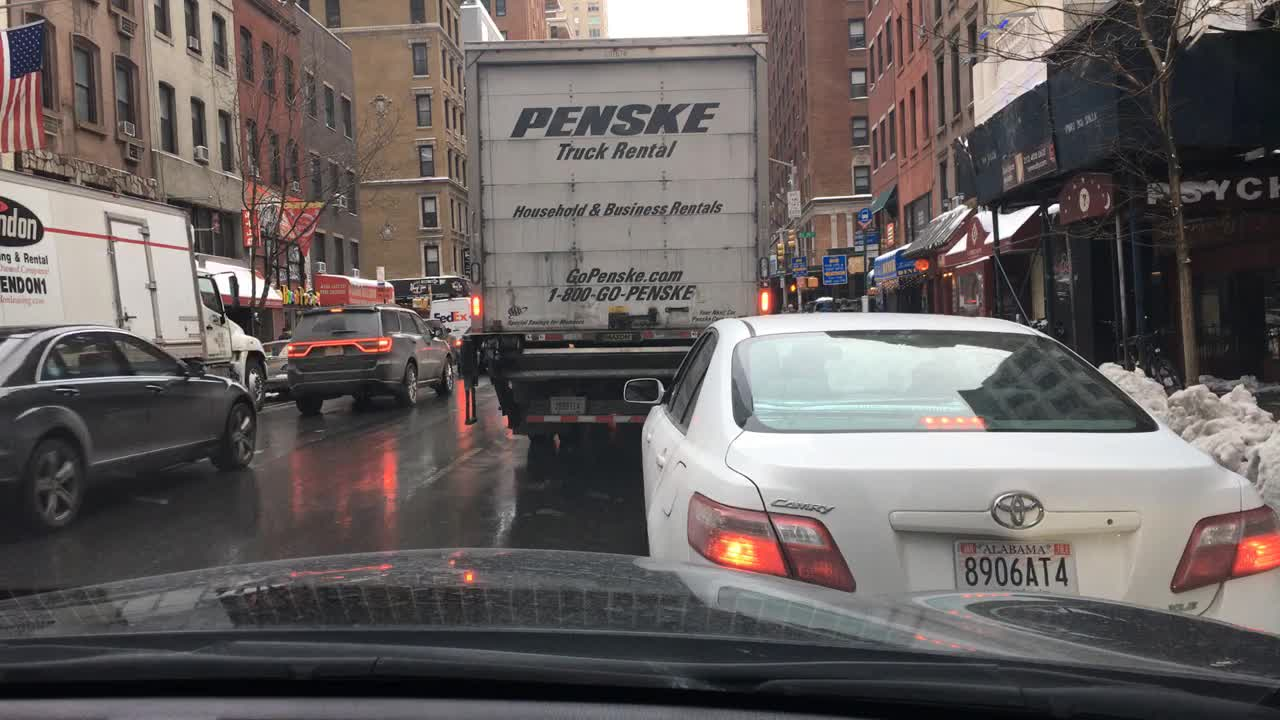bike: (1116, 330, 1184, 388)
car: (621, 310, 1277, 636), (0, 324, 256, 532), (285, 303, 452, 416), (430, 297, 478, 346), (262, 338, 295, 400), (422, 318, 459, 363), (813, 296, 832, 310)
person: (847, 297, 861, 310), (823, 299, 833, 311), (838, 298, 848, 310), (787, 303, 797, 311), (779, 305, 788, 311)
traffic light: (798, 273, 818, 293), (786, 226, 799, 256), (773, 236, 786, 265), (788, 280, 796, 293), (807, 276, 816, 286)
traffic sign: (821, 255, 846, 282), (853, 230, 880, 251), (786, 193, 801, 218), (855, 208, 871, 229), (791, 256, 806, 275), (758, 256, 769, 281), (795, 232, 815, 237), (866, 251, 880, 257), (779, 278, 784, 288)
truck: (460, 31, 768, 444), (0, 168, 268, 412)
